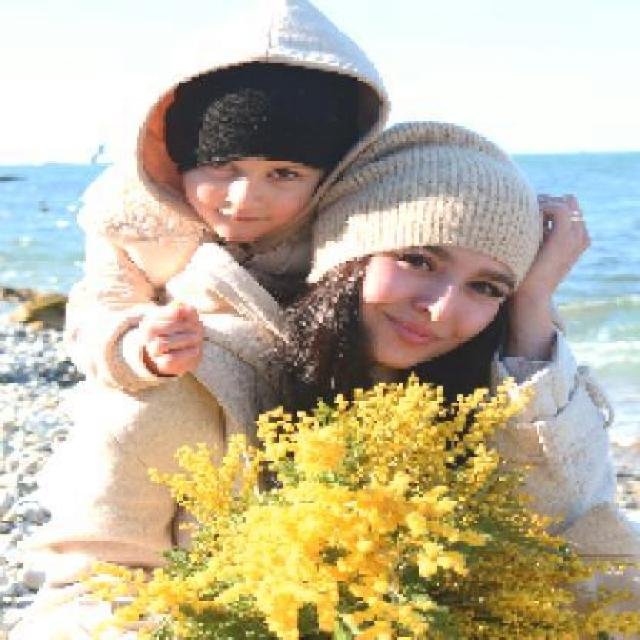child: (62, 1, 395, 393)
